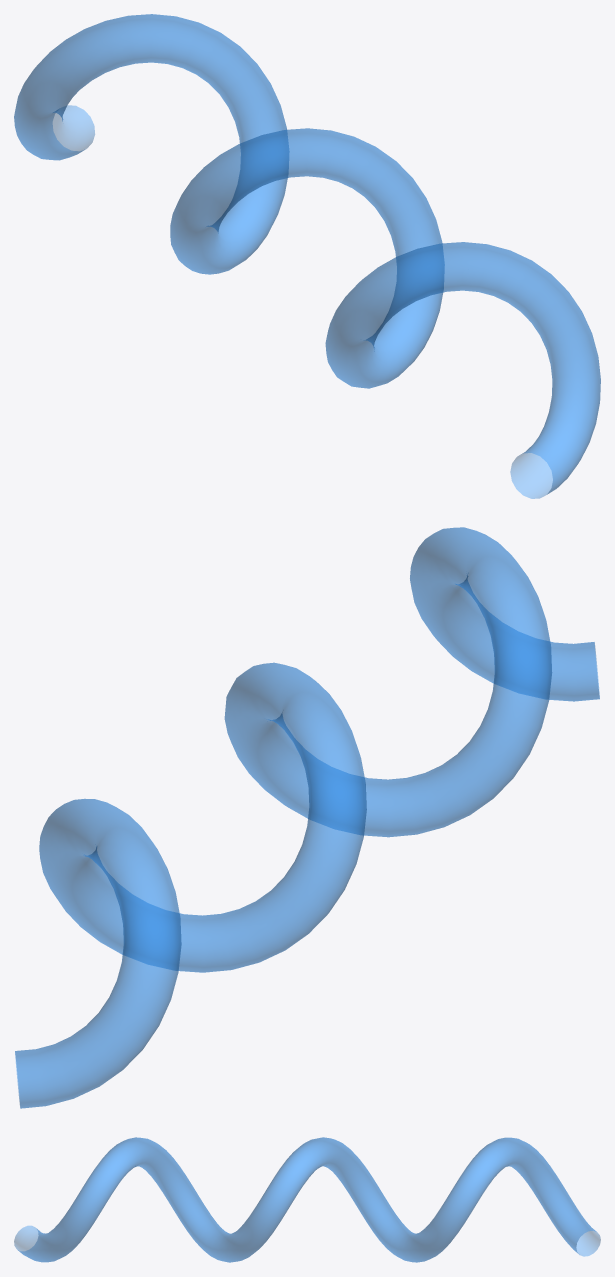
The model's file is spiral.obj.
The picture shows the model from 3 angles, top to bottom: view 1: azimuth 30°, elevation 25°; view 2: azimuth 150°, elevation 25°; view 3: azimuth 270°, elevation 25°; orthographic projection. The views are drawn at different scales.
Parts seen in each view (by area): view 1: Spiral.001; view 2: Spiral.001; view 3: Spiral.001.
Part boxes in pixels (x1=…): Spiral.001: x1=14, y1=14, x2=600, y2=498; Spiral.001: x1=15, y1=527, x2=599, y2=1108; Spiral.001: x1=14, y1=1137, x2=600, y2=1262.
Size of the model in its own units: 0.2587 by 0.26 by 1.22.
